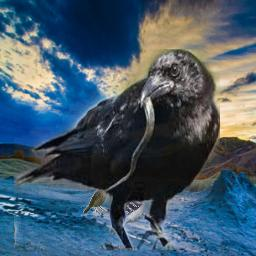Crow: (14, 49, 220, 250)
Sparrow: (83, 181, 109, 214)
Woodpecker: (109, 181, 151, 234)
